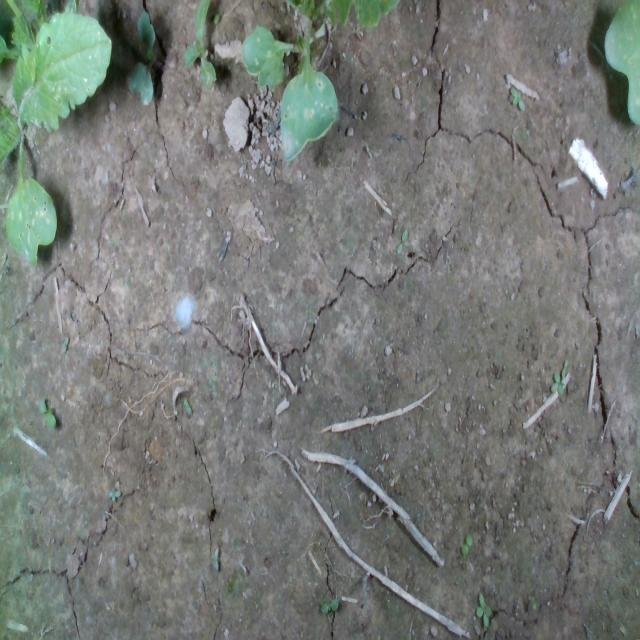weed: (474, 591, 492, 628), (38, 398, 56, 428), (509, 85, 525, 111), (320, 596, 339, 615), (396, 227, 408, 254), (461, 530, 473, 554), (106, 484, 120, 502)
